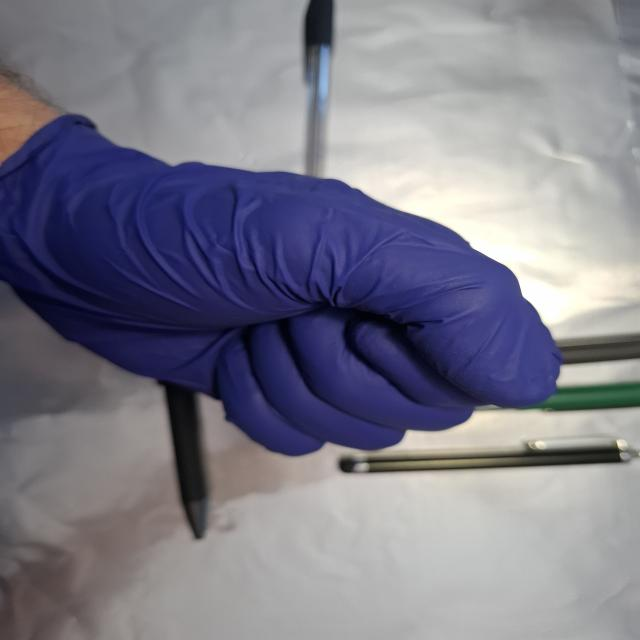glove_on: (4, 109, 567, 461)
